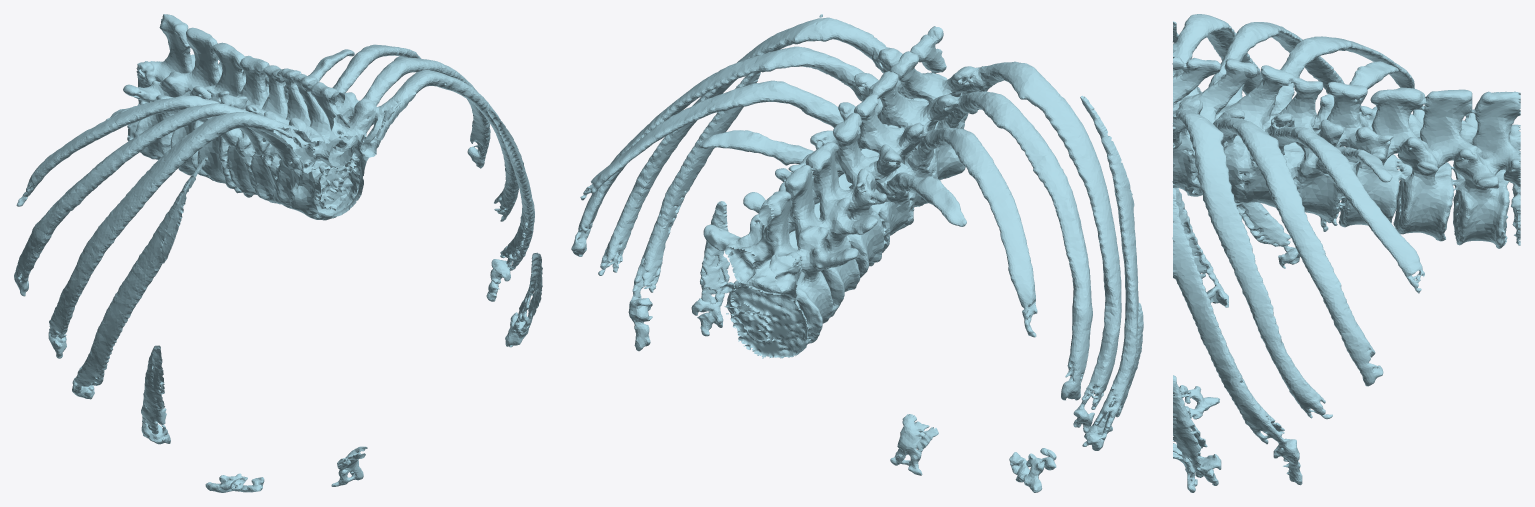
The model's file is bone.obj.
3 renders of one model, left to right at view 1: azimuth 30°, elevation 25°; view 2: azimuth 150°, elevation 25°; view 3: azimuth 270°, elevation 25°, orthographic. The views are drawn at different scales.
Visible parts, largest first — view 1: grp1; view 2: grp1; view 3: grp1.
Part boxes in pixels (left/top/right/bottom): grp1: left=14, top=14, right=542, bottom=492; grp1: left=571, top=14, right=1143, bottom=492; grp1: left=1172, top=14, right=1520, bottom=492.
Size of the model in its own units: 345 by 286 by 213.
